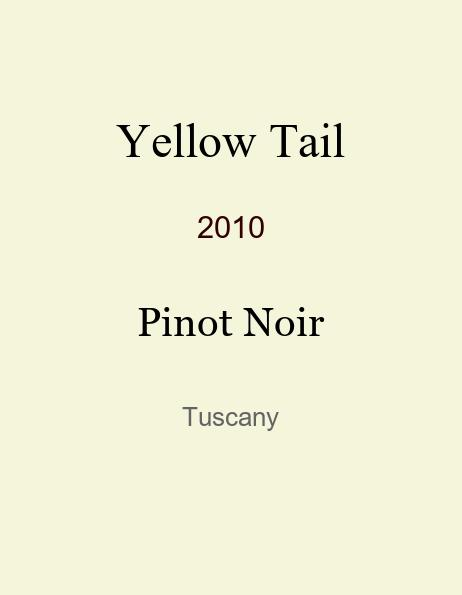brand: (116, 114, 345, 148)
region: (182, 402, 279, 426)
variety: (137, 299, 325, 328)
vintage: (197, 209, 265, 231)
